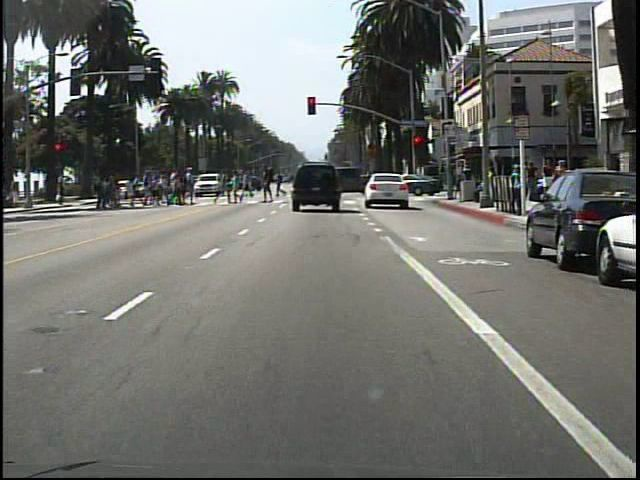person: (507, 160, 525, 215), (553, 155, 570, 199), (539, 155, 555, 198)
